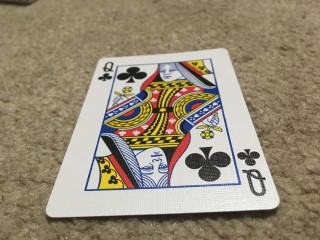QueenOfClubs: (46, 48, 281, 217)
